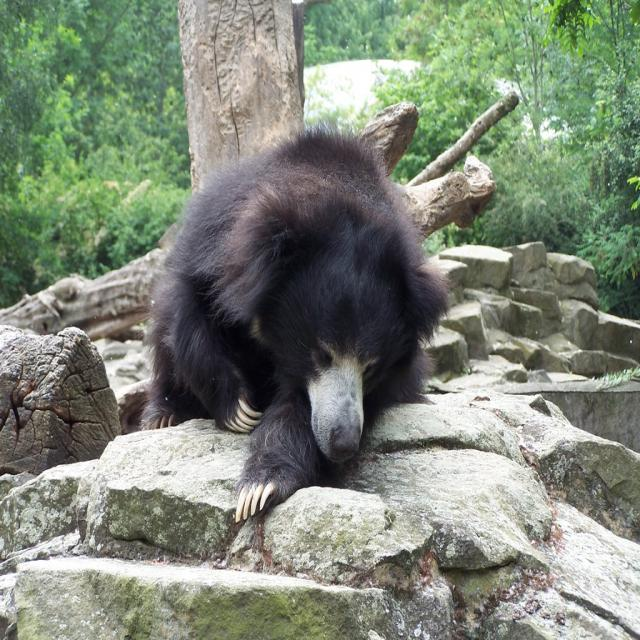Bear: (133, 112, 464, 523)
